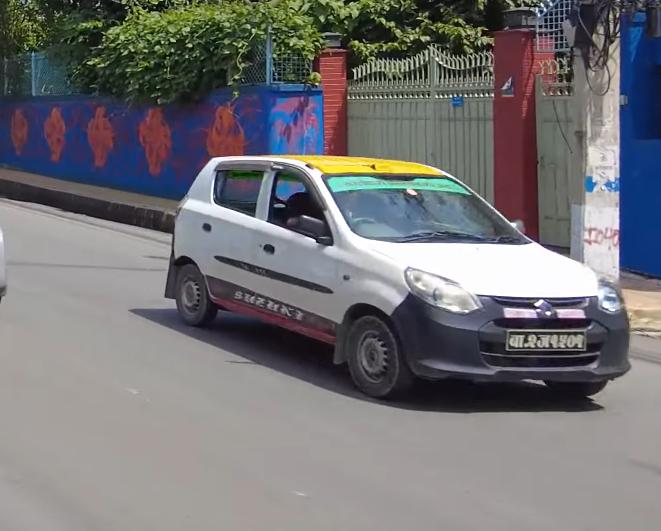taxi: (172, 149, 641, 407)
